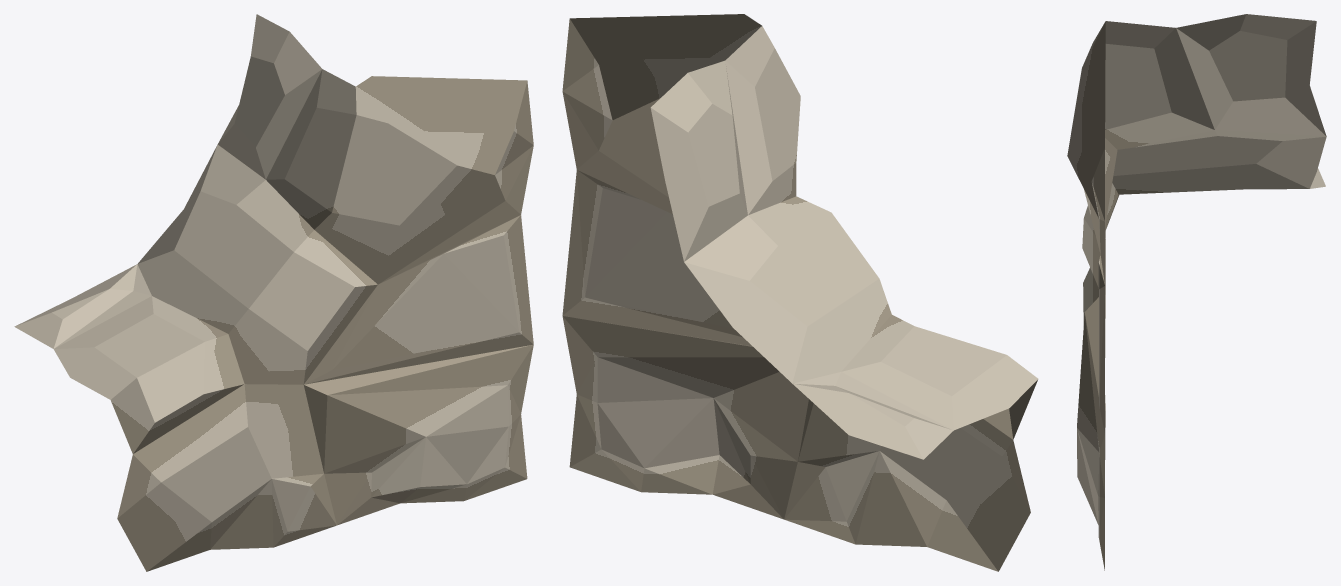
The model's file is CornerStrongArch_00.fbx.
3 renders of one model, left to right at view 1: azimuth 30°, elevation 25°; view 2: azimuth 150°, elevation 25°; view 3: azimuth 270°, elevation 25°, orthographic. The views are drawn at different scales.
Visible parts, largest first — view 1: CornerStrongArch_00; view 2: CornerStrongArch_00; view 3: CornerStrongArch_00.
Part boxes in pixels (<box>): CornerStrongArch_00: <box>14,14,533,571</box>; CornerStrongArch_00: <box>562,14,1038,571</box>; CornerStrongArch_00: <box>1067,14,1326,570</box>.
Size of the model in its own units: 113 by 112 by 55.44.
Materials: 1 (1 with a texture image).
